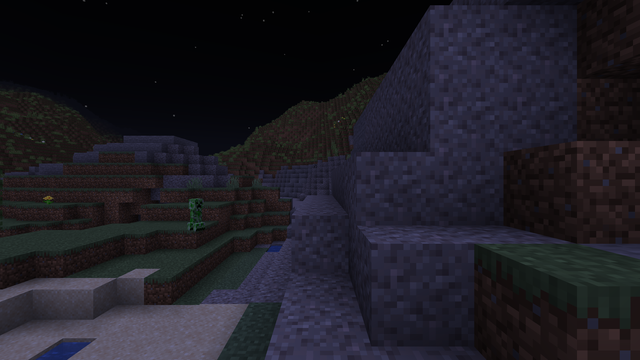creepers: (187, 197, 203, 230)
